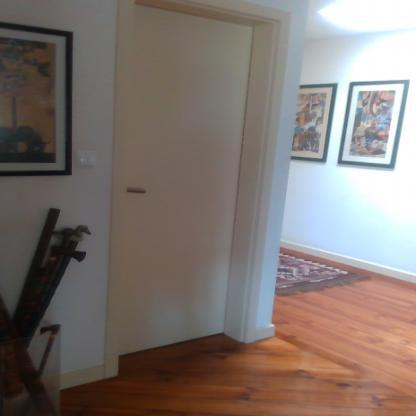door: (127, 3, 236, 354)
lever: (127, 186, 150, 196)
